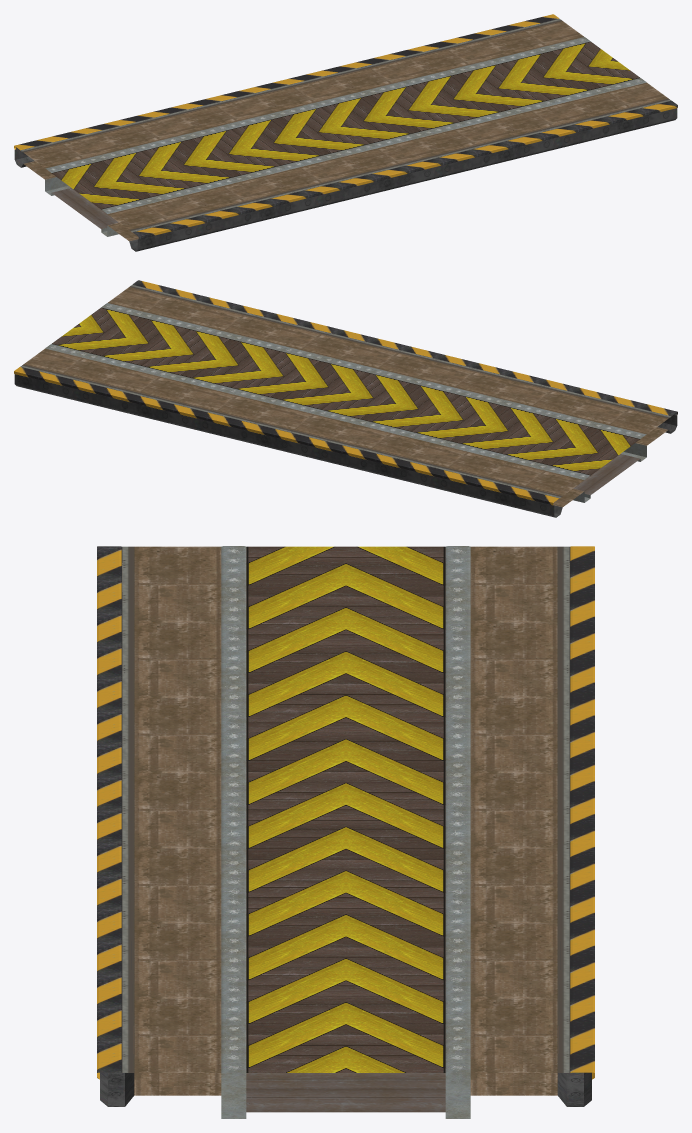
File: OB_ArrowRoadWideLong_RC.fbx
The picture shows the model from 3 angles, top to bottom: view 1: azimuth 30°, elevation 25°; view 2: azimuth 150°, elevation 25°; view 3: azimuth 270°, elevation 25°; orthographic projection. The views are drawn at different scales.
Parts seen in each view (by area): view 1: Ob_ArrowRoadWideLong_RC; view 2: Ob_ArrowRoadWideLong_RC; view 3: Ob_ArrowRoadWideLong_RC.
Boxes of the visible parts, x1,y1,x2,y2 form: Ob_ArrowRoadWideLong_RC: (14, 14, 677, 251); Ob_ArrowRoadWideLong_RC: (14, 280, 677, 517); Ob_ArrowRoadWideLong_RC: (97, 546, 594, 1118).
Size of the model in its own units: 5000 by 205 by 2000.
